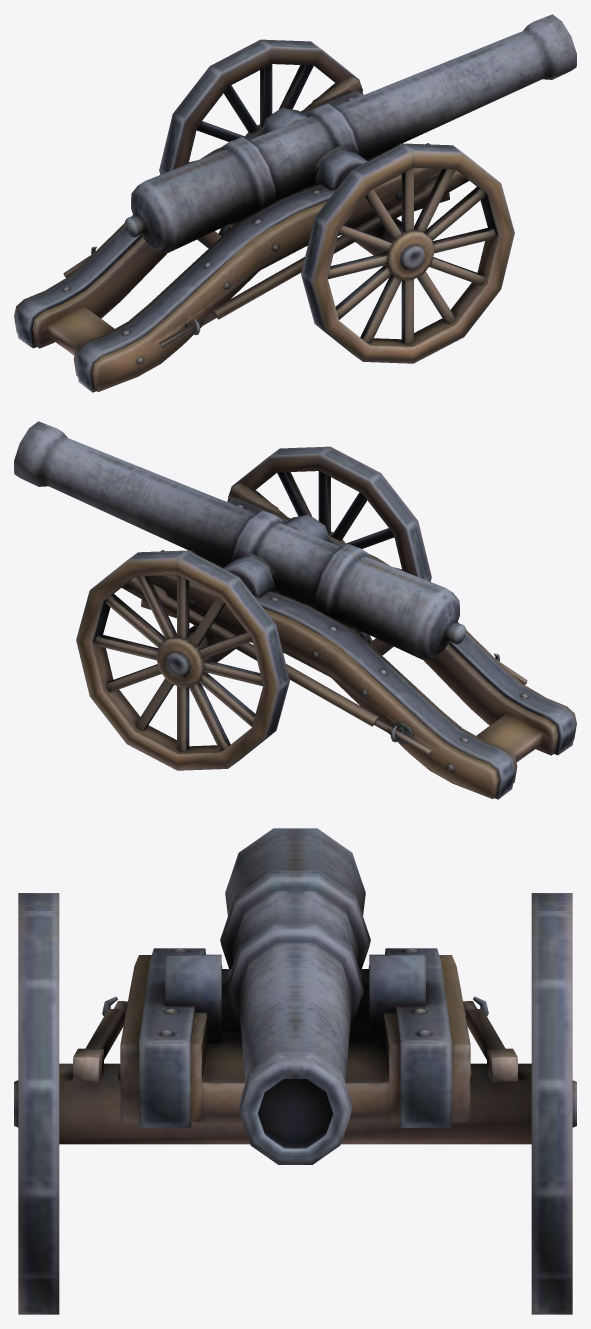
Rendered from Artillery.glb.
The picture shows the model from 3 angles, top to bottom: view 1: azimuth 30°, elevation 25°; view 2: azimuth 150°, elevation 25°; view 3: azimuth 270°, elevation 25°; orthographic projection. The views are drawn at different scales.
Visible parts, largest first — view 1: 1_low; view 2: 1_low; view 3: 1_low.
Boxes of the visible parts, left/top/right/bottom form: 1_low: left=14, top=14, right=576, bottom=392; 1_low: left=14, top=421, right=576, bottom=799; 1_low: left=14, top=828, right=576, bottom=1314.
Size of the model in its own units: 5.08 by 2.23 by 2.66.
Materials: 1 (1 with a texture image).
